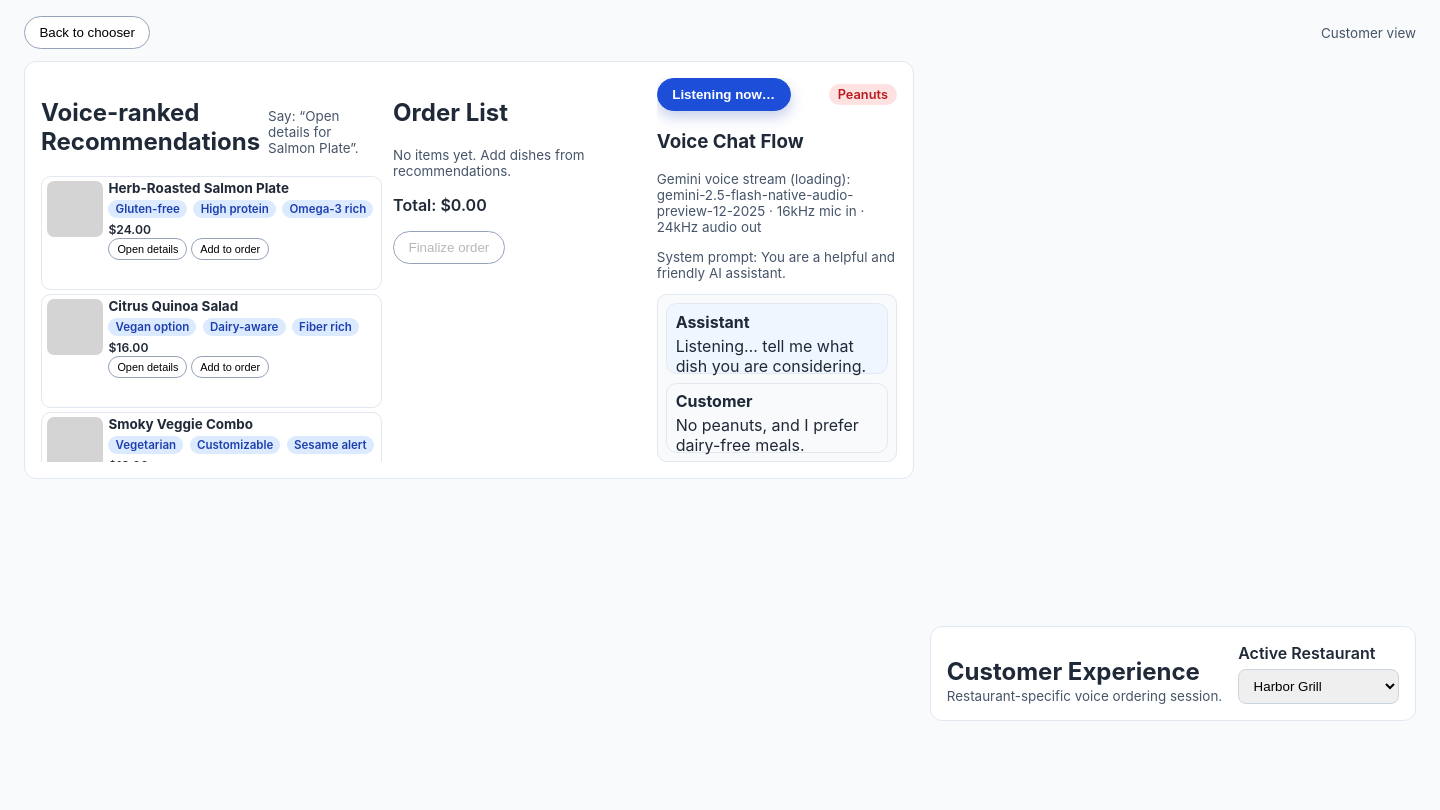
Test: App › supports restaurant-specific sessions and menus
The width and height of the screenshot is (1440, 810).
Expected: the text "Gemini voice stream" is shown, [657, 171, 864, 235]
Expected: the button "Listening now…" is shown, [657, 78, 790, 111]
Select "Green Garden Cafe" in the dropdown labelled "Active Restaurant" at (1319,686), box [1238, 669, 1399, 704]
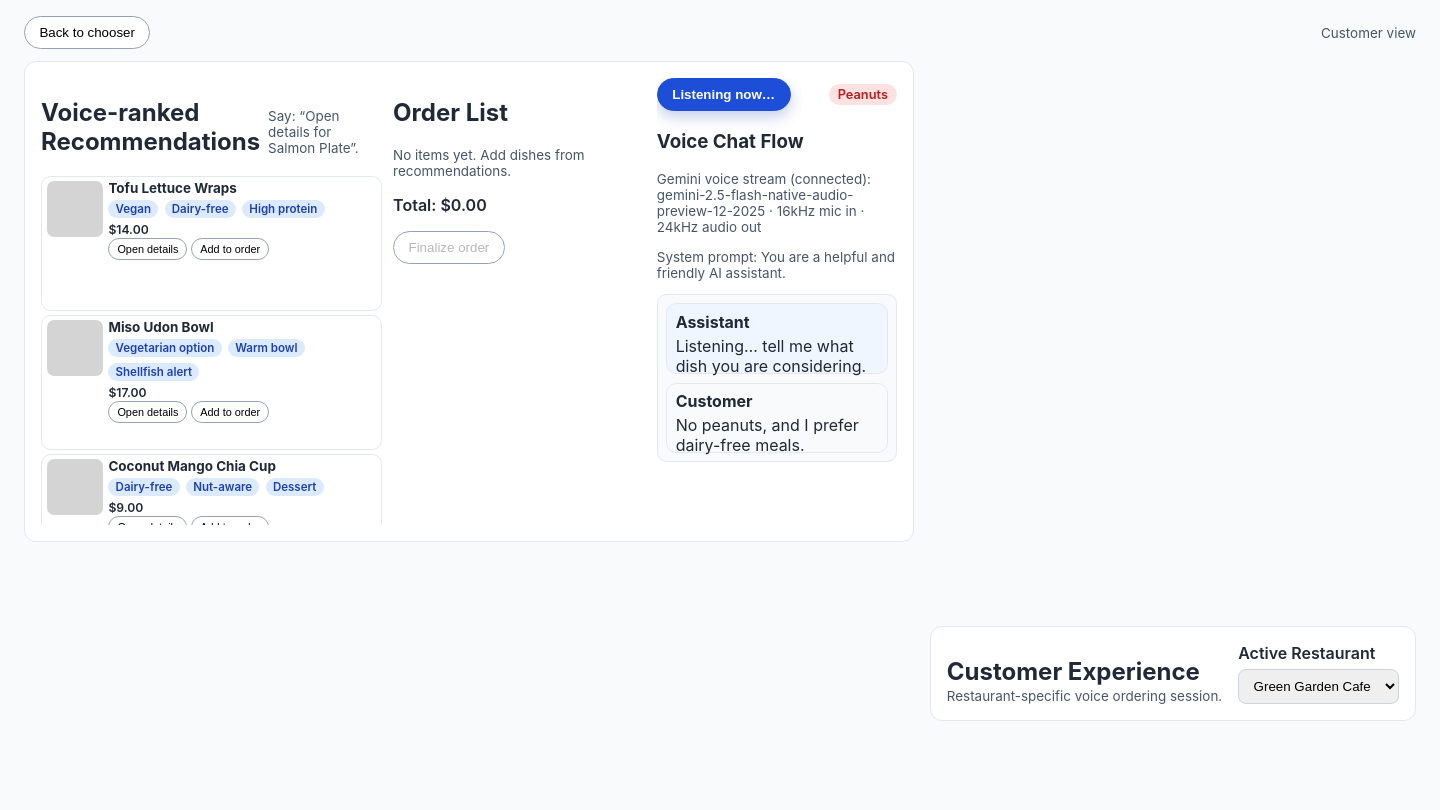
Expected: the heading "Tofu Lettuce Wraps" is shown, [108, 180, 237, 196]
Expected: the heading "Herb-Roasted Salmon Plate" is gone
